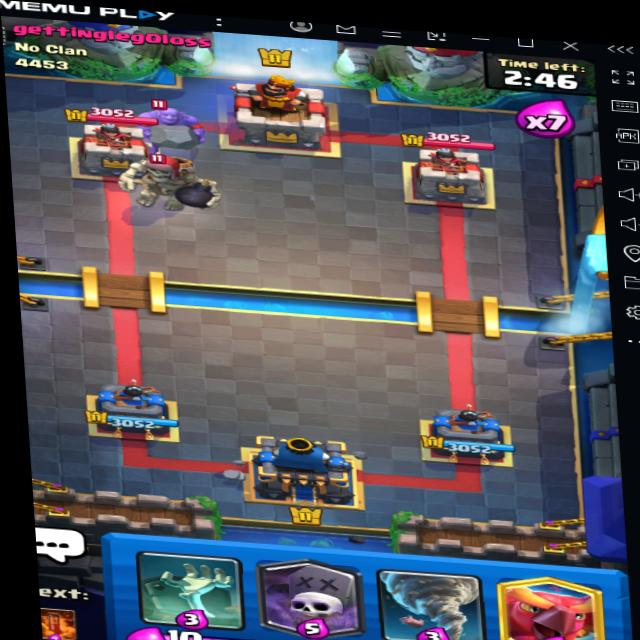bowler: (136, 101, 217, 153)
giant-skeleton: (118, 143, 218, 218)
